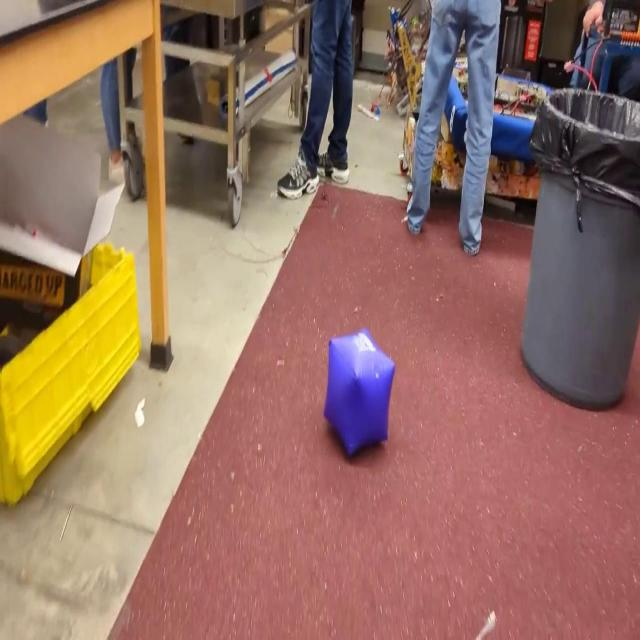frc_cube: (324, 326, 396, 462)
